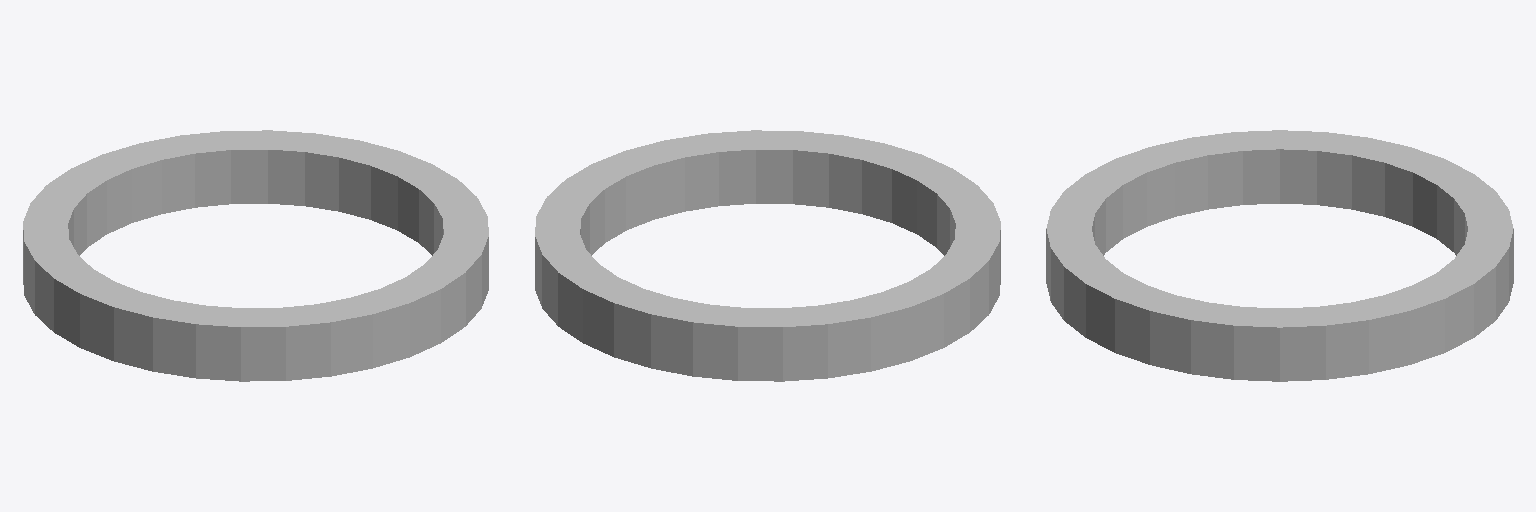
File: wheel.obj
The picture shows the model from 3 angles: view 1: azimuth 30°, elevation 25°; view 2: azimuth 150°, elevation 25°; view 3: azimuth 270°, elevation 25°; orthographic projection.
Visible parts, largest first — view 1: Cylinder; view 2: Cylinder; view 3: Cylinder.
Boxes of the visible parts, x1=… form: Cylinder: x1=23, y1=130, x2=488, y2=381; Cylinder: x1=535, y1=130, x2=1000, y2=381; Cylinder: x1=1046, y1=130, x2=1513, y2=381.
Size of the model in its own units: 2 by 0.2561 by 2.